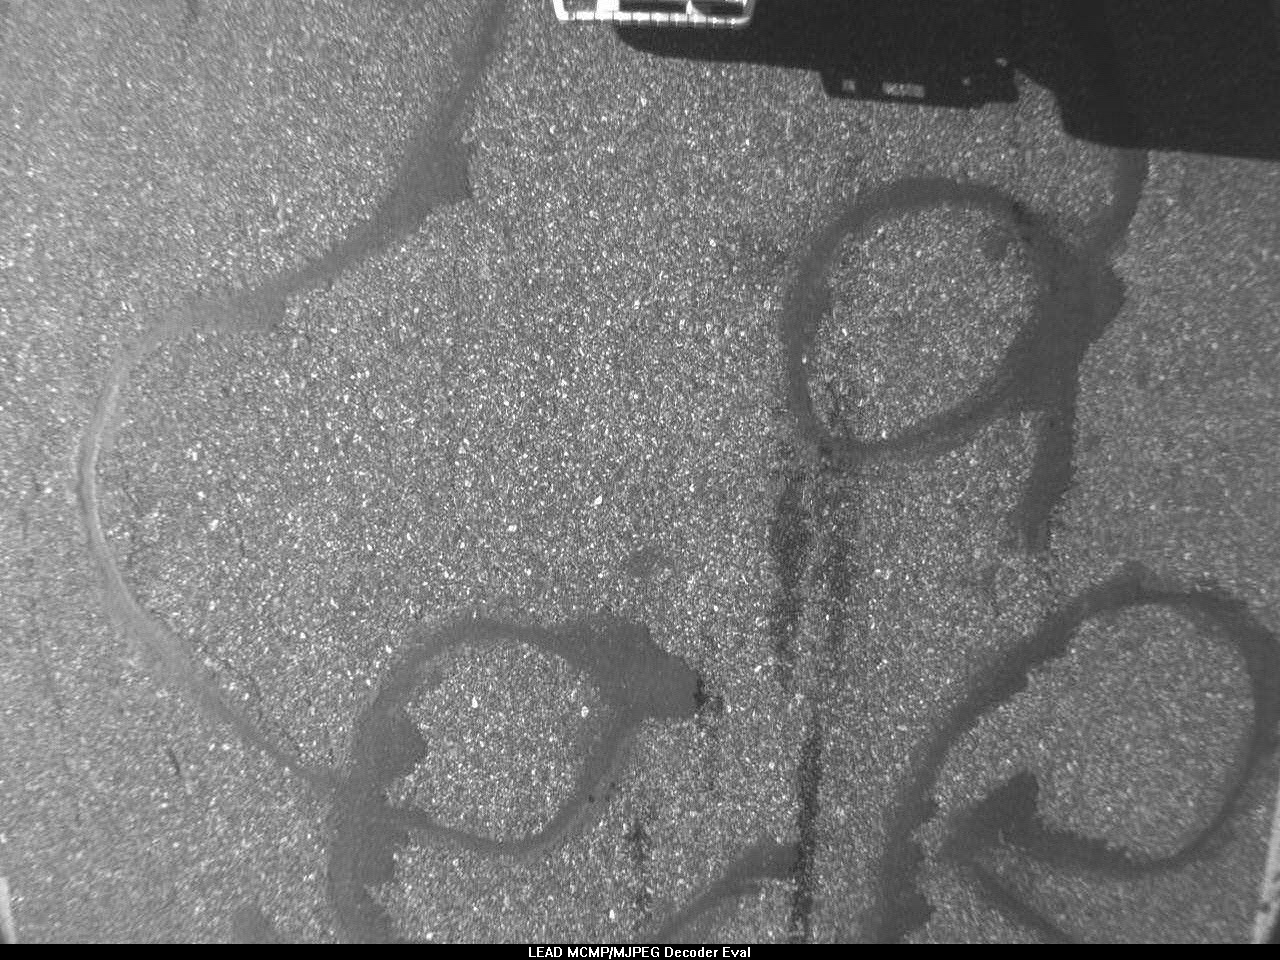sealed: (77, 12, 730, 919), (771, 133, 1158, 550), (861, 562, 1272, 934)
